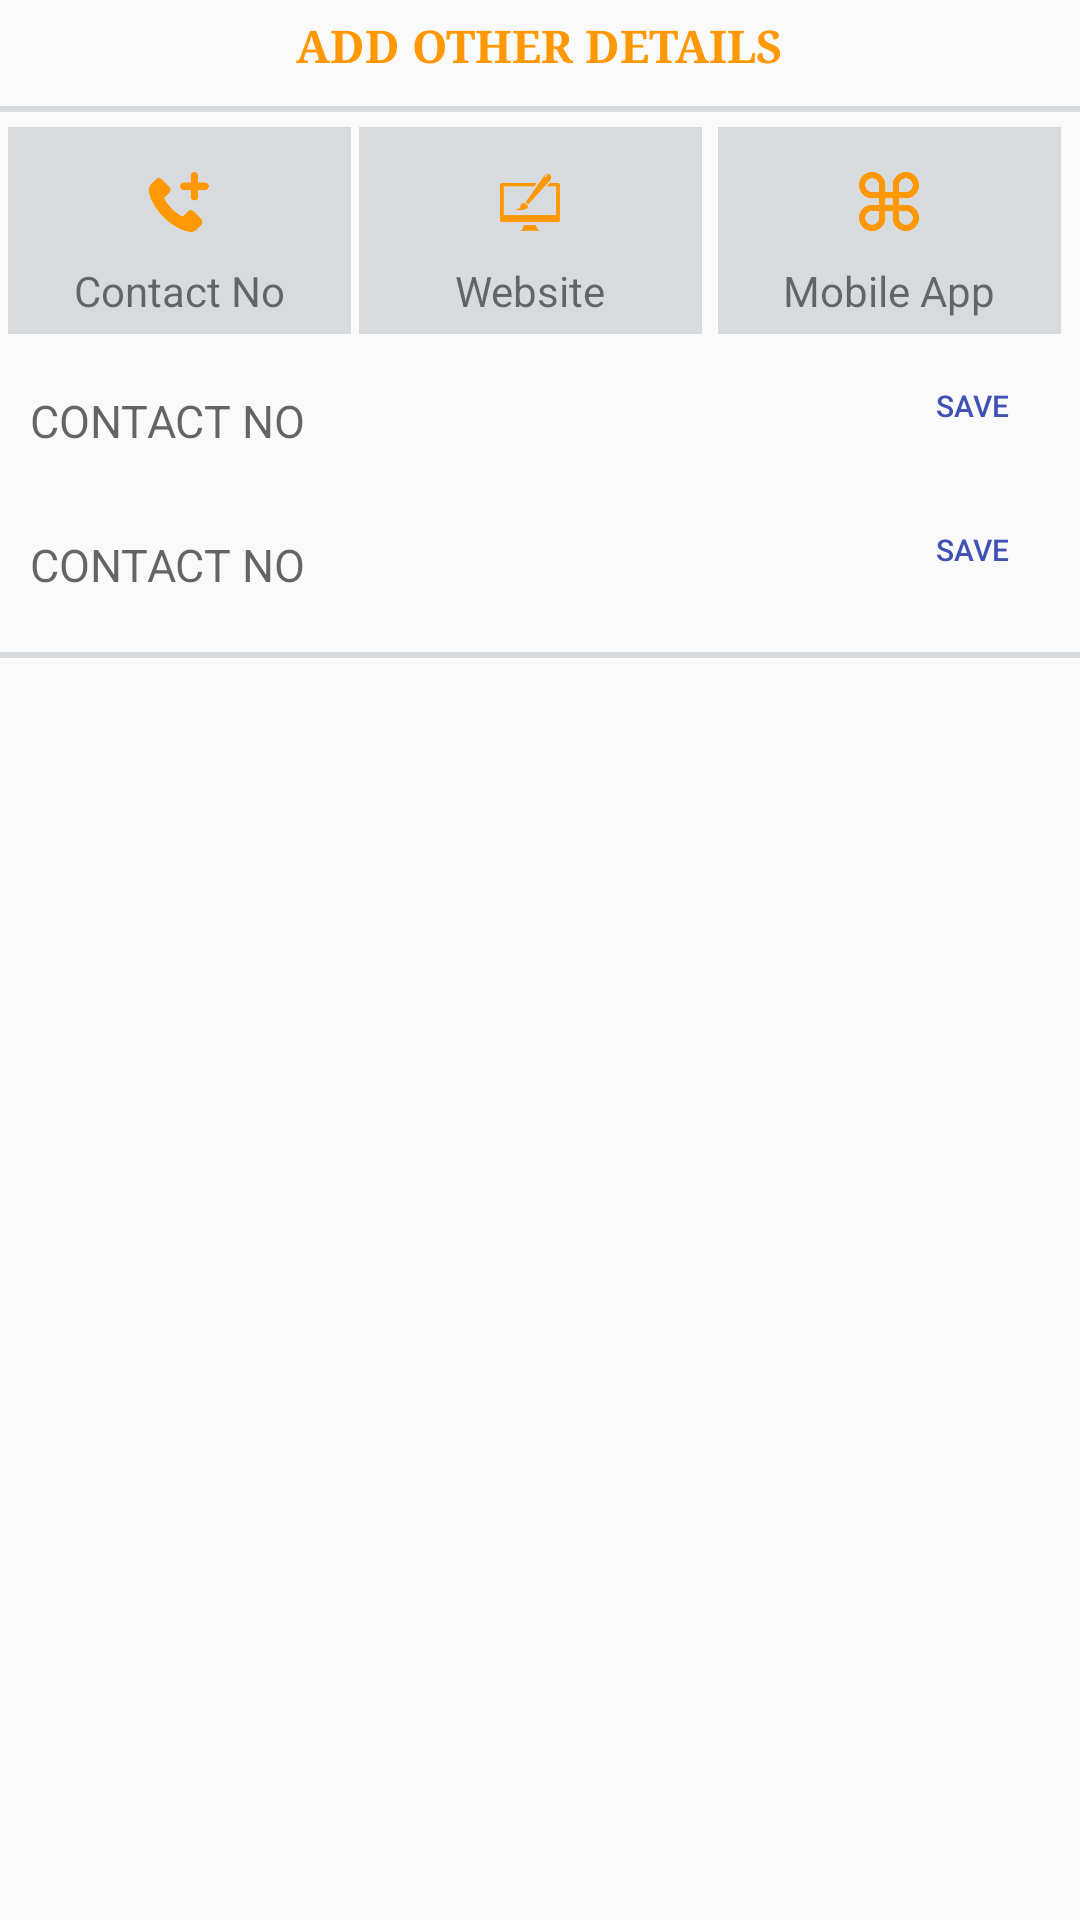

Where icons sit on this 1080 × 1920 app screen, as (left=x1, top=y1, right=x2, bottom=y2):
add app: (left=859, top=172, right=919, bottom=231)
add phone no: (left=149, top=172, right=209, bottom=232)
